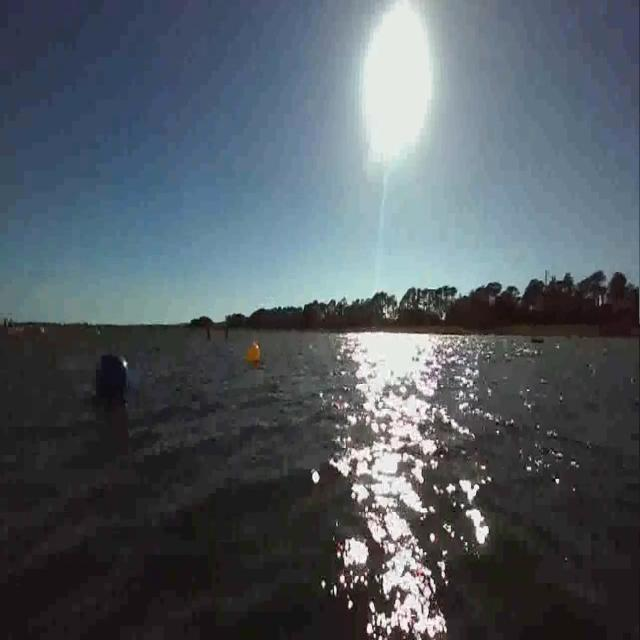yellow-buoy: (244, 341, 259, 364)
